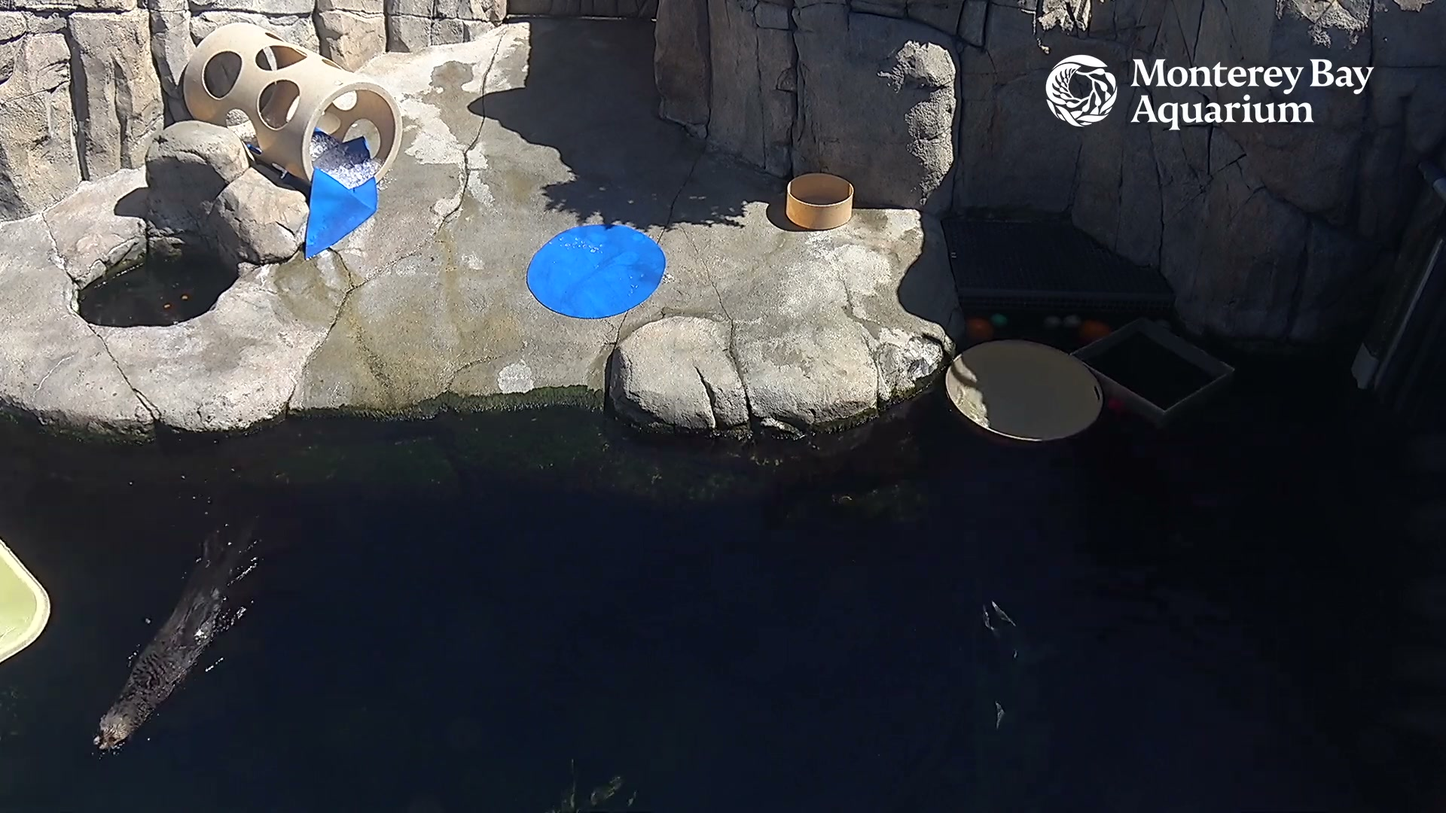Southern Sea Otter: (90, 465, 281, 767)
